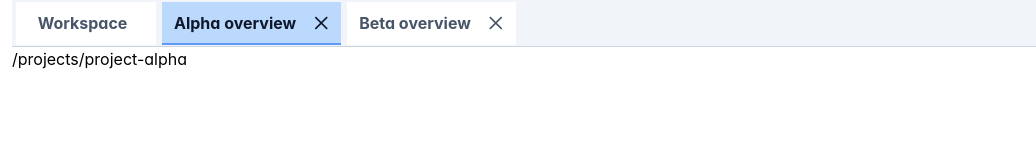
Test: TabBar › navigates to the next route-backed tab when the active tab is closed.
Click the button named "close alpha overview tab". click: [321, 23]
box: [308,10,334,36]
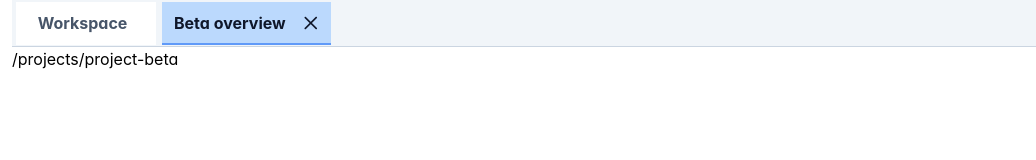
Now the text named "Current route" reads "/projects/project-beta", box [12,48,178,68]
Now the button "Alpha overview" is gone
